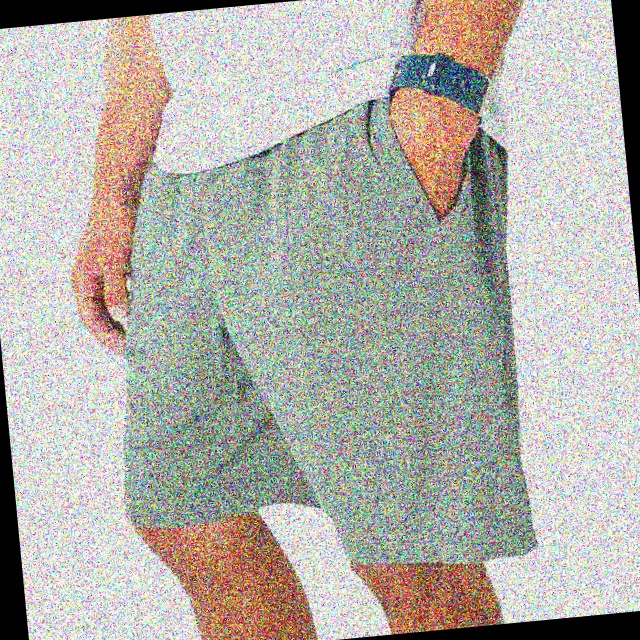Shorts: (58, 94, 574, 640)
